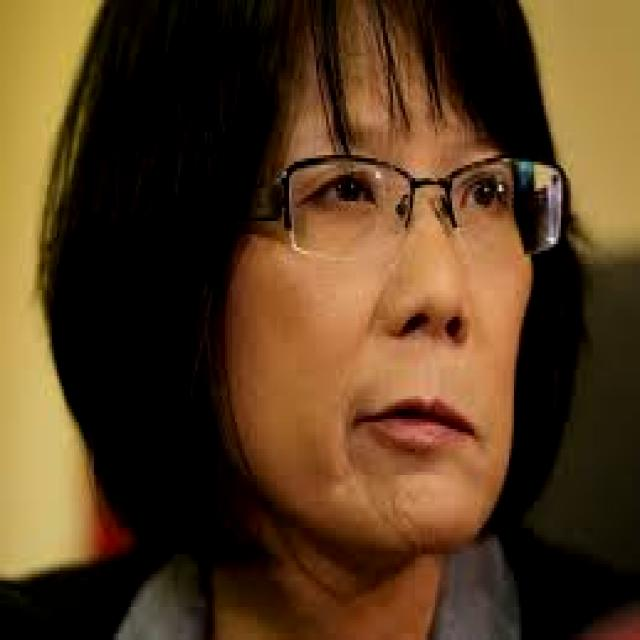stroke_face: (171, 0, 555, 560)
